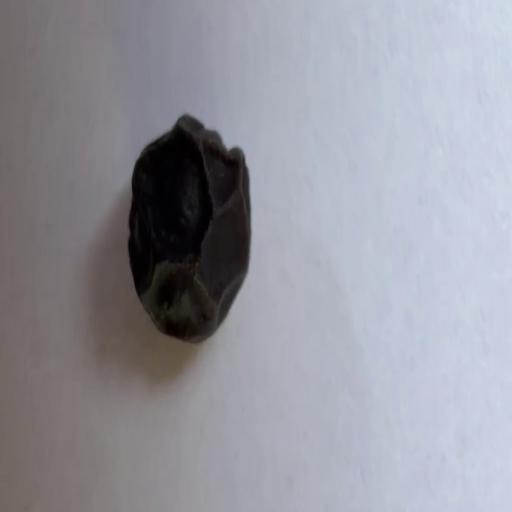Black_pepper: (112, 102, 272, 348)
